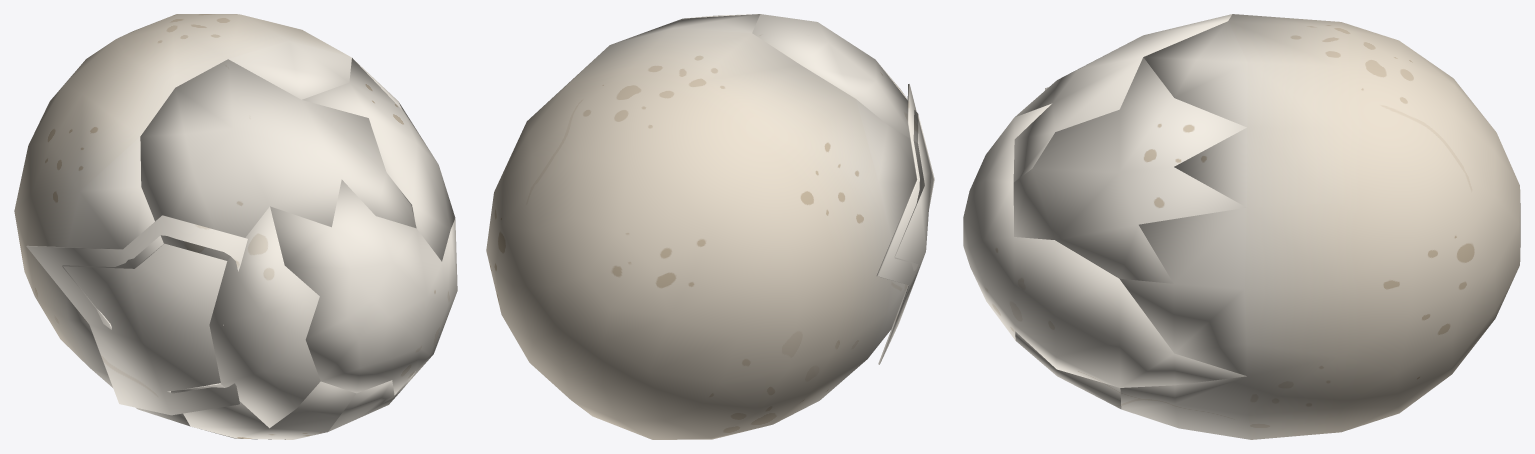
Rendered from EggShellAnim01.fbx.
3 views of the same model, side by side, from view 1: azimuth 30°, elevation 25°; view 2: azimuth 150°, elevation 25°; view 3: azimuth 270°, elevation 25° (orthographic). The views are drawn at different scales.
Parts seen in each view (by area): view 1: EggShell02, EggShell03, EggShell04, EggShell01, EggShell05, EggShell06, EggShell00, EggShell07; view 2: EggShell02, EggShell03, EggShell01; view 3: EggShell02, EggShell06, EggShell04, EggShell03, EggShell07.
Boxes of the visible parts, x1,y1,x2,y2 form: EggShell02: [14, 14, 401, 439]; EggShell03: [140, 59, 416, 260]; EggShell04: [270, 179, 457, 395]; EggShell01: [26, 215, 247, 415]; EggShell05: [209, 206, 320, 428]; EggShell06: [302, 58, 455, 261]; EggShell00: [171, 381, 356, 439]; EggShell07: [328, 371, 415, 431]; EggShell02: [486, 14, 924, 439]; EggShell03: [752, 14, 918, 142]; EggShell01: [876, 84, 931, 364]; EggShell02: [1119, 14, 1520, 439]; EggShell06: [1013, 57, 1246, 283]; EggShell04: [963, 103, 1246, 387]; EggShell03: [1013, 14, 1232, 182]; EggShell07: [1015, 331, 1121, 408].
Bounding box in the file's own units: 0.0378 × 0.0367 × 0.0482.
